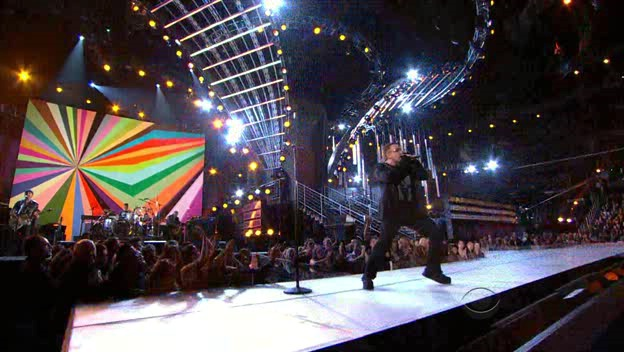person: (372, 139, 430, 242), (369, 139, 427, 242), (375, 139, 433, 242), (372, 136, 430, 239), (372, 142, 430, 245)
target_negative: (12, 105, 301, 323), (220, 157, 546, 241), (253, 118, 545, 161), (50, 152, 178, 200), (615, 269, 621, 334), (562, 350, 614, 352)
